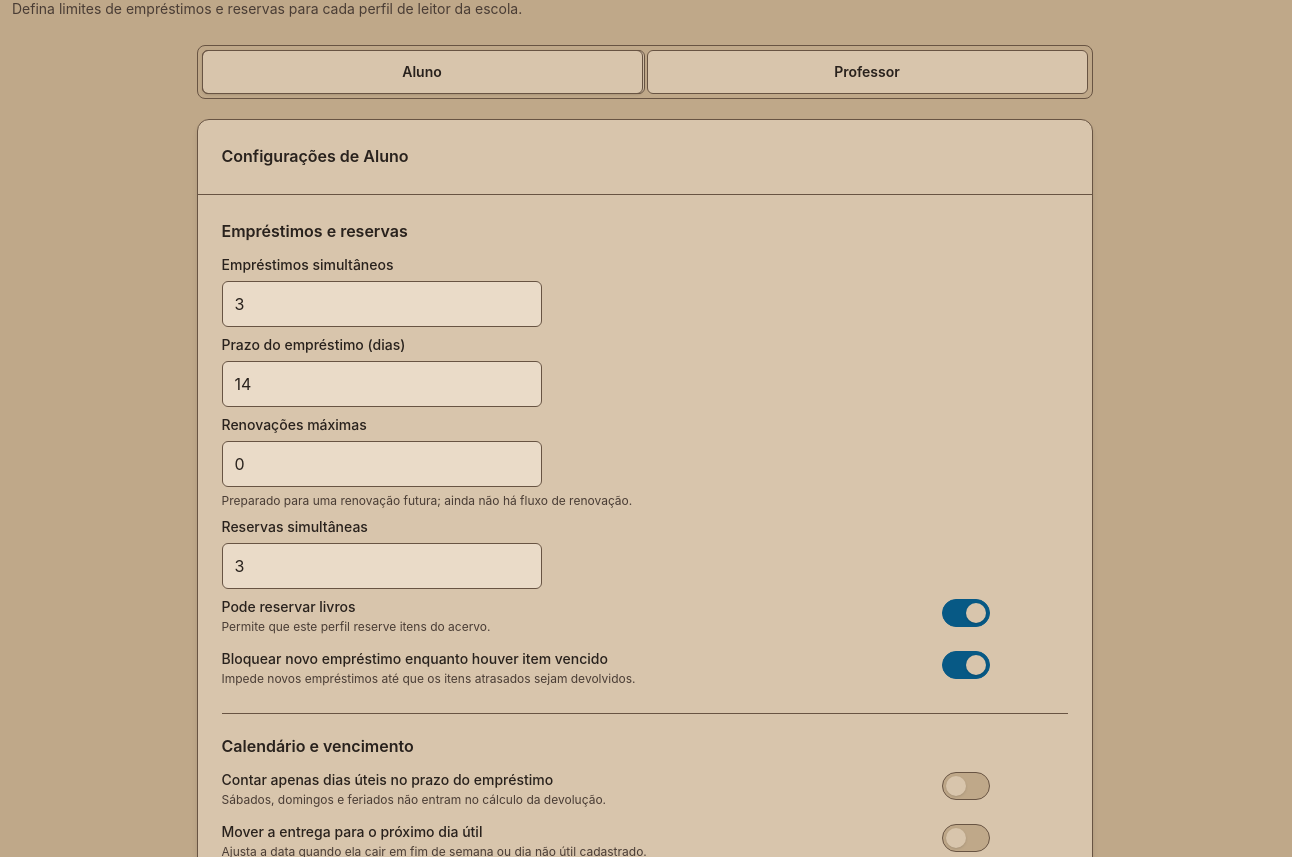
CirculationPoliciesPage › disables saving again when a change is undone
Check: the tab "Aluno" is shown, box left=202, top=50, right=642, bottom=94
Replace the text in the number field labelled "Prazo do empréstimo (dias)" with "10" at {"x": 382, "y": 384}, box left=222, top=361, right=542, bottom=407
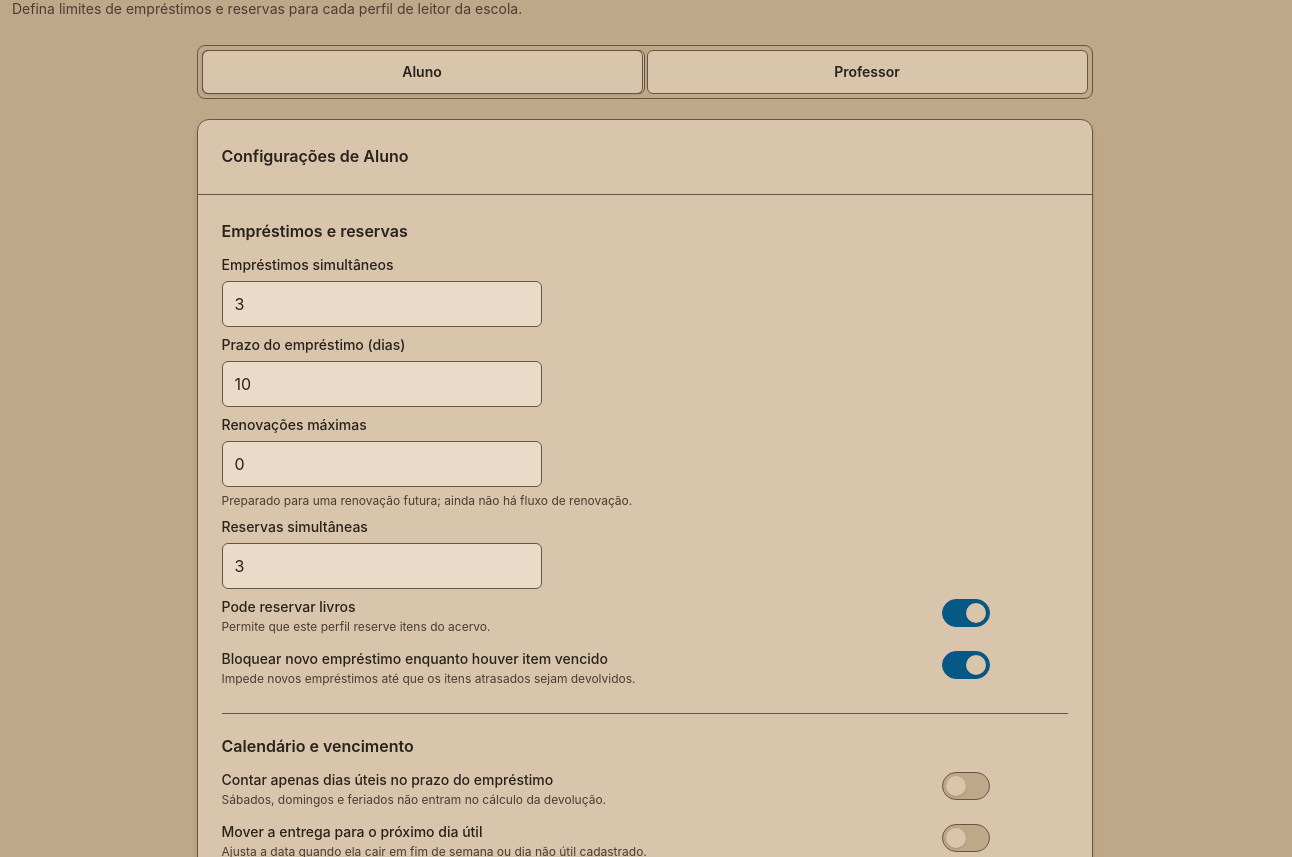
Replace the text in the number field labelled "Prazo do empréstimo (dias)" with "14" at {"x": 382, "y": 384}, box left=222, top=361, right=542, bottom=407
(page scrolled)
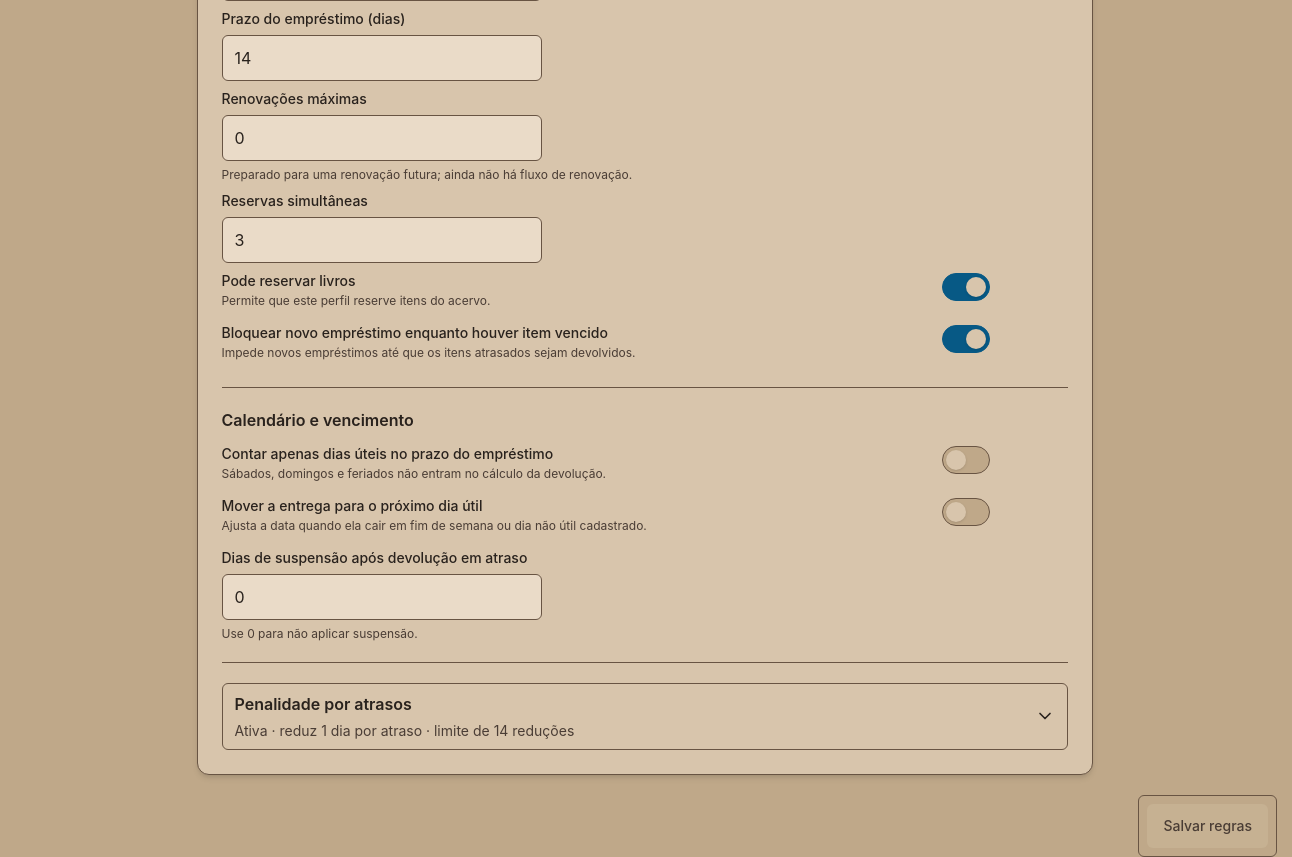
Check: the button "Salvar regras" is disabled, box left=1147, top=804, right=1268, bottom=848
